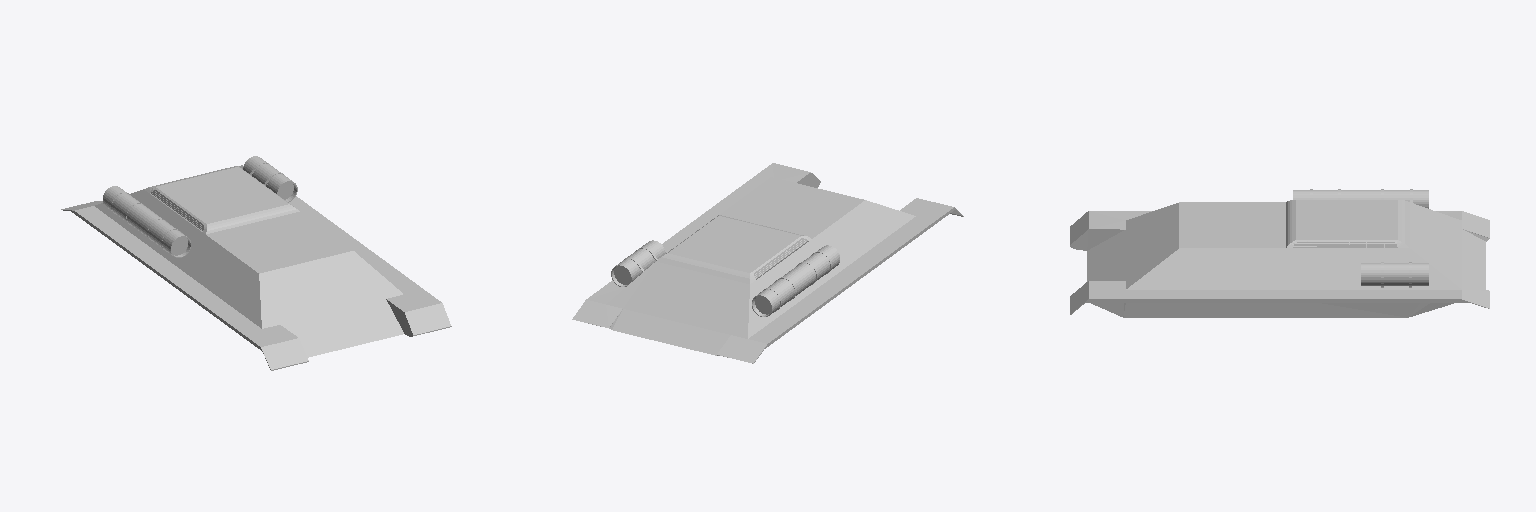
File: kadlub.obj
The picture shows the model from 3 angles: view 1: azimuth 30°, elevation 25°; view 2: azimuth 150°, elevation 25°; view 3: azimuth 270°, elevation 25°; orthographic projection.
Parts seen in each view (by area): view 1: kadłub_Cube.001; view 2: kadłub_Cube.001; view 3: kadłub_Cube.001.
Part boxes in pixels (x1,y1,x2,y2): kadłub_Cube.001: (61,156,451,370); kadłub_Cube.001: (572,163,963,363); kadłub_Cube.001: (1070,189,1489,317).
Size of the model in its own units: 3.58 by 1.35 by 7.17.